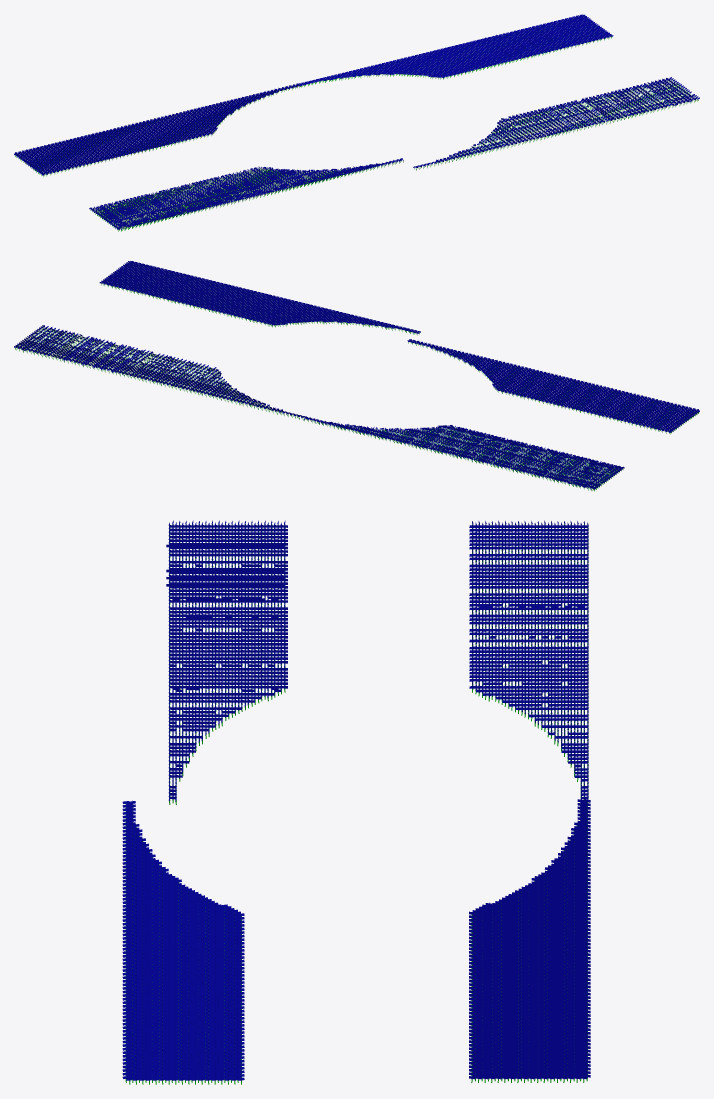
The model's file is flowers_fbx.fbx.
3 renders of one model, top to bottom at view 1: azimuth 30°, elevation 25°; view 2: azimuth 150°, elevation 25°; view 3: azimuth 270°, elevation 25°, orthographic. The views are drawn at different scales.
Visible parts, largest first — view 1: Flower (3), Flower (4), Flower (2), Flower; view 2: Flower, Flower (2), Flower (4), Flower (3); view 3: Flower, Flower (3), Flower (2), Flower (4).
Boxes of the visible parts, x1,y1,x2,y2 form: Flower (3): [298, 14, 613, 87]; Flower (4): [14, 83, 300, 176]; Flower (2): [89, 158, 403, 231]; Flower: [413, 77, 699, 170]; Flower: [99, 261, 420, 335]; Flower (2): [407, 339, 699, 434]; Flower (4): [304, 416, 624, 491]; Flower (3): [14, 325, 305, 420]; Flower: [122, 800, 244, 1084]; Flower (3): [469, 799, 590, 1082]; Flower (2): [166, 520, 287, 804]; Flower (4): [469, 520, 588, 802].
Size of the model in its own units: 28165 by 180 by 9980.
